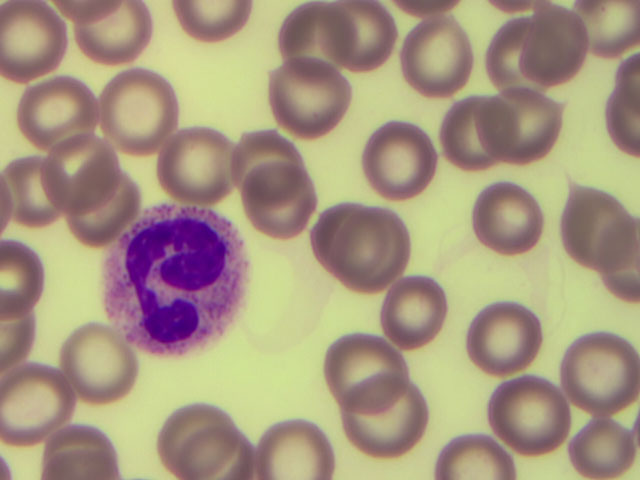RBC: (323, 216, 409, 292), (327, 338, 408, 414), (565, 336, 640, 413), (271, 62, 347, 137), (1, 357, 65, 445), (347, 384, 425, 456), (102, 75, 173, 153), (368, 123, 435, 201), (170, 407, 242, 479), (49, 134, 114, 213), (570, 186, 630, 271), (494, 379, 567, 448), (1, 1, 63, 80), (254, 424, 340, 480), (483, 97, 559, 160), (285, 2, 350, 75), (27, 75, 94, 143), (440, 101, 504, 172), (410, 21, 471, 95), (166, 133, 235, 196), (478, 183, 540, 253), (247, 170, 316, 232), (532, 5, 582, 86), (75, 4, 144, 61), (476, 307, 540, 368), (239, 132, 296, 198), (8, 161, 64, 225), (576, 2, 640, 58), (391, 278, 445, 344), (51, 424, 114, 480), (62, 339, 126, 393), (183, 426, 246, 480), (72, 167, 116, 241), (578, 417, 635, 472), (441, 436, 510, 480), (2, 239, 40, 315), (601, 218, 640, 292), (491, 19, 532, 89), (176, 1, 257, 35), (609, 93, 640, 161), (3, 298, 33, 368), (621, 47, 640, 110), (395, 1, 460, 15)
WBC: (117, 207, 244, 351)
